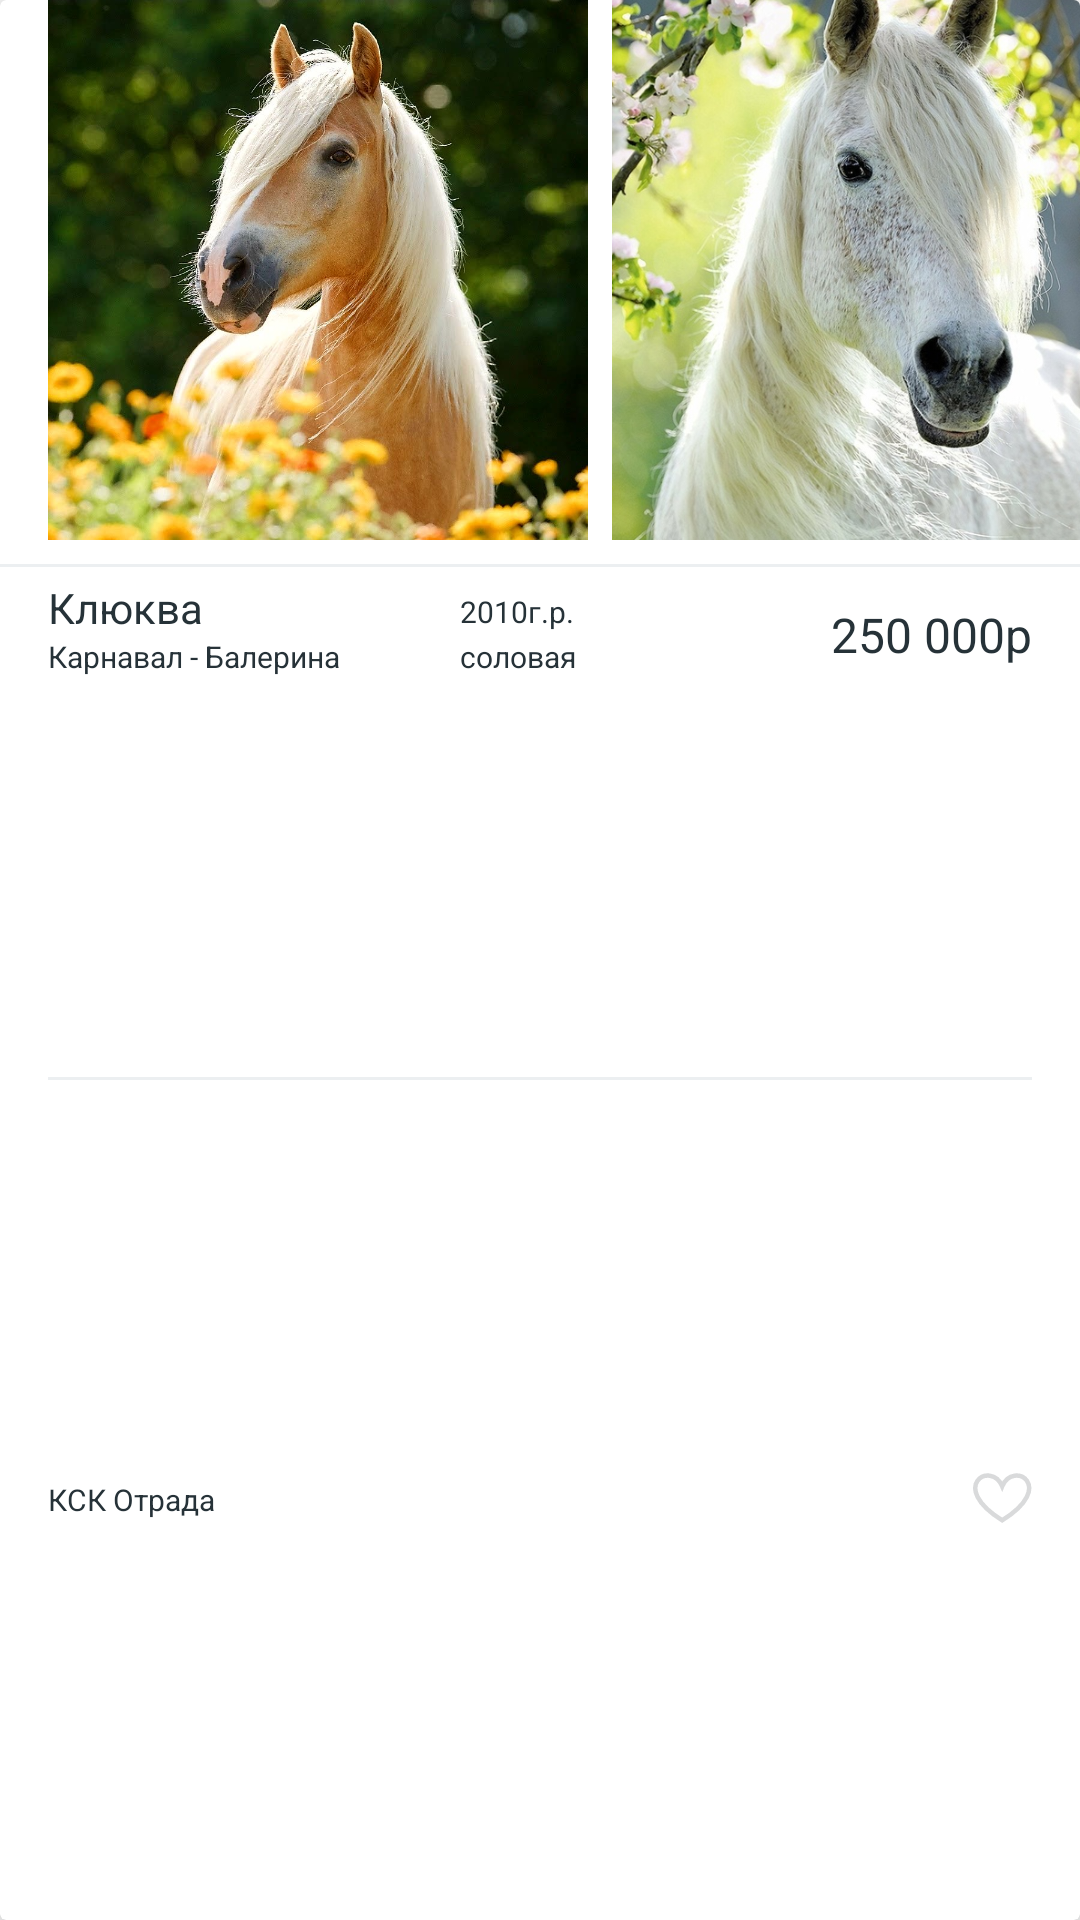

Locate icon controls on the screen. Image size 1080w x 1920h, boxes as [left=x1, top=y1, right=x2, bottom=y2].
favorite: [left=973, top=1473, right=1031, bottom=1523]
